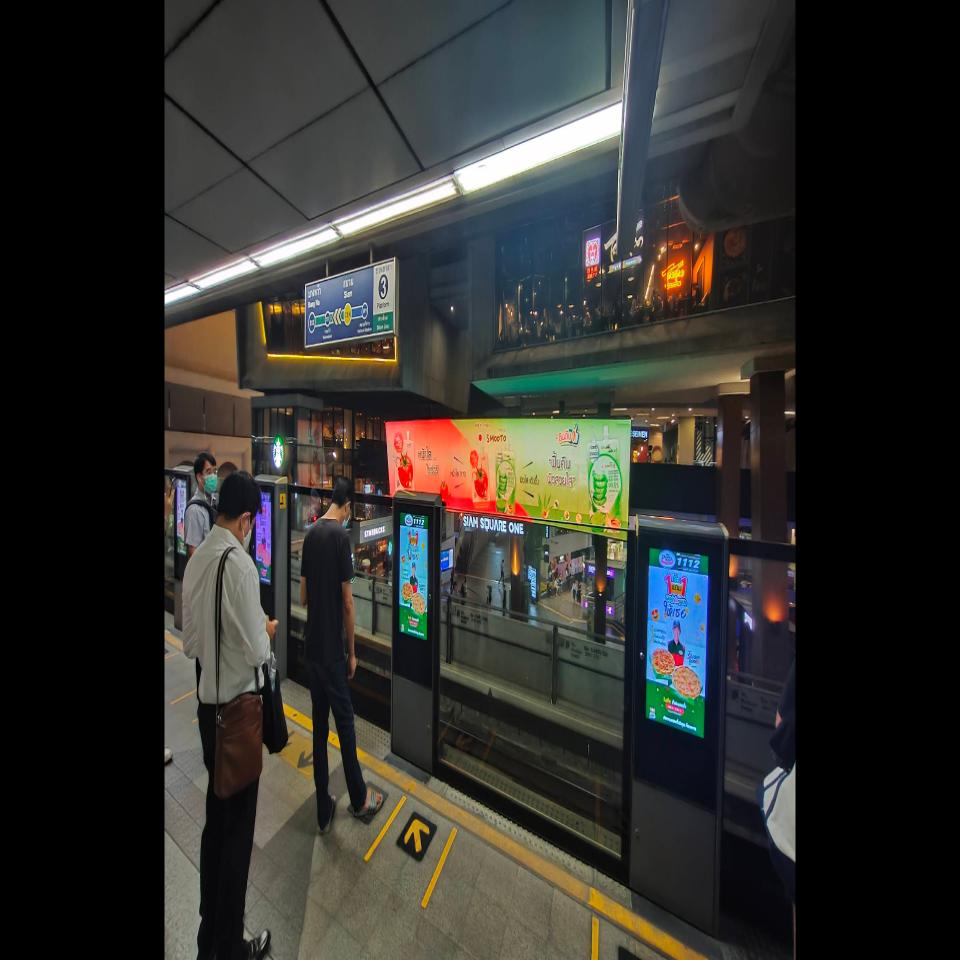signage: (325, 277, 368, 327)
